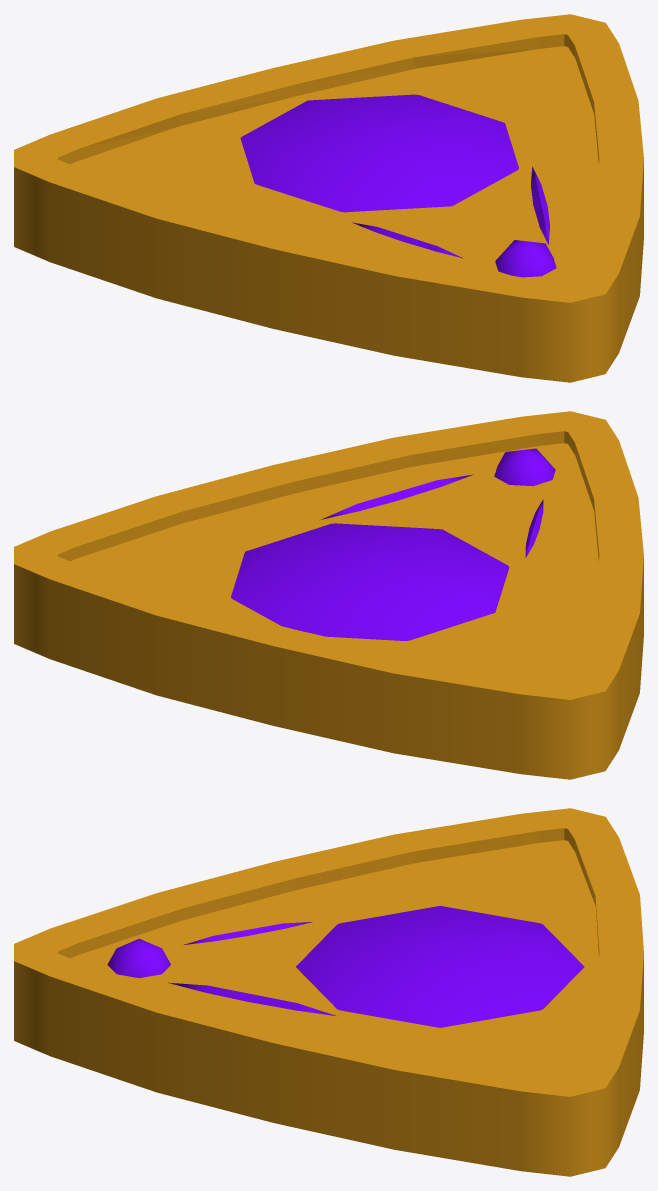
Rendered from Powerup_Megaballs.FBX.
3 renders of one model, top to bottom at view 1: azimuth 30°, elevation 25°; view 2: azimuth 150°, elevation 25°; view 3: azimuth 270°, elevation 25°, orthographic.
Parts seen in each view (by area): view 1: NGon001; view 2: NGon001; view 3: NGon001.
Boxes of the visible parts, x1=… form: NGon001: x1=14, y1=14, x2=643, y2=382; NGon001: x1=14, y1=411, x2=643, y2=779; NGon001: x1=14, y1=808, x2=643, y2=1176.
Size of the model in its own units: 155 by 22.87 by 143.
